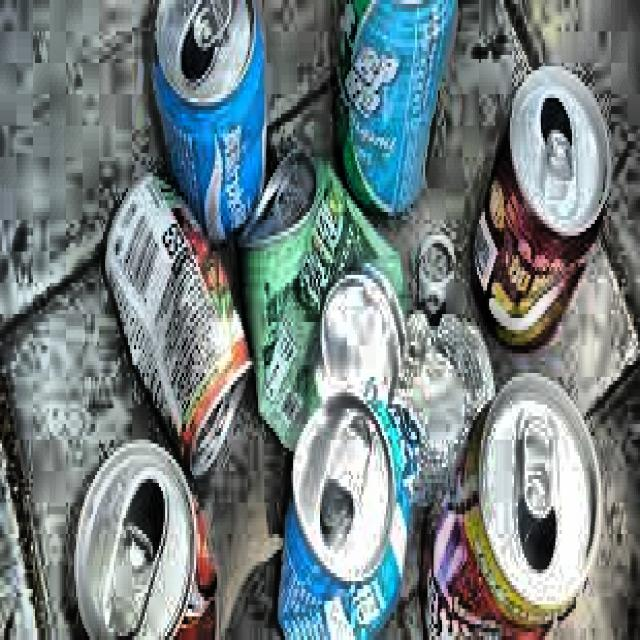can: (100, 154, 260, 495), (417, 369, 611, 640), (236, 145, 408, 445), (469, 62, 617, 361), (273, 381, 417, 640), (380, 228, 502, 518), (144, 0, 280, 257), (66, 432, 221, 640), (324, 0, 461, 232)
